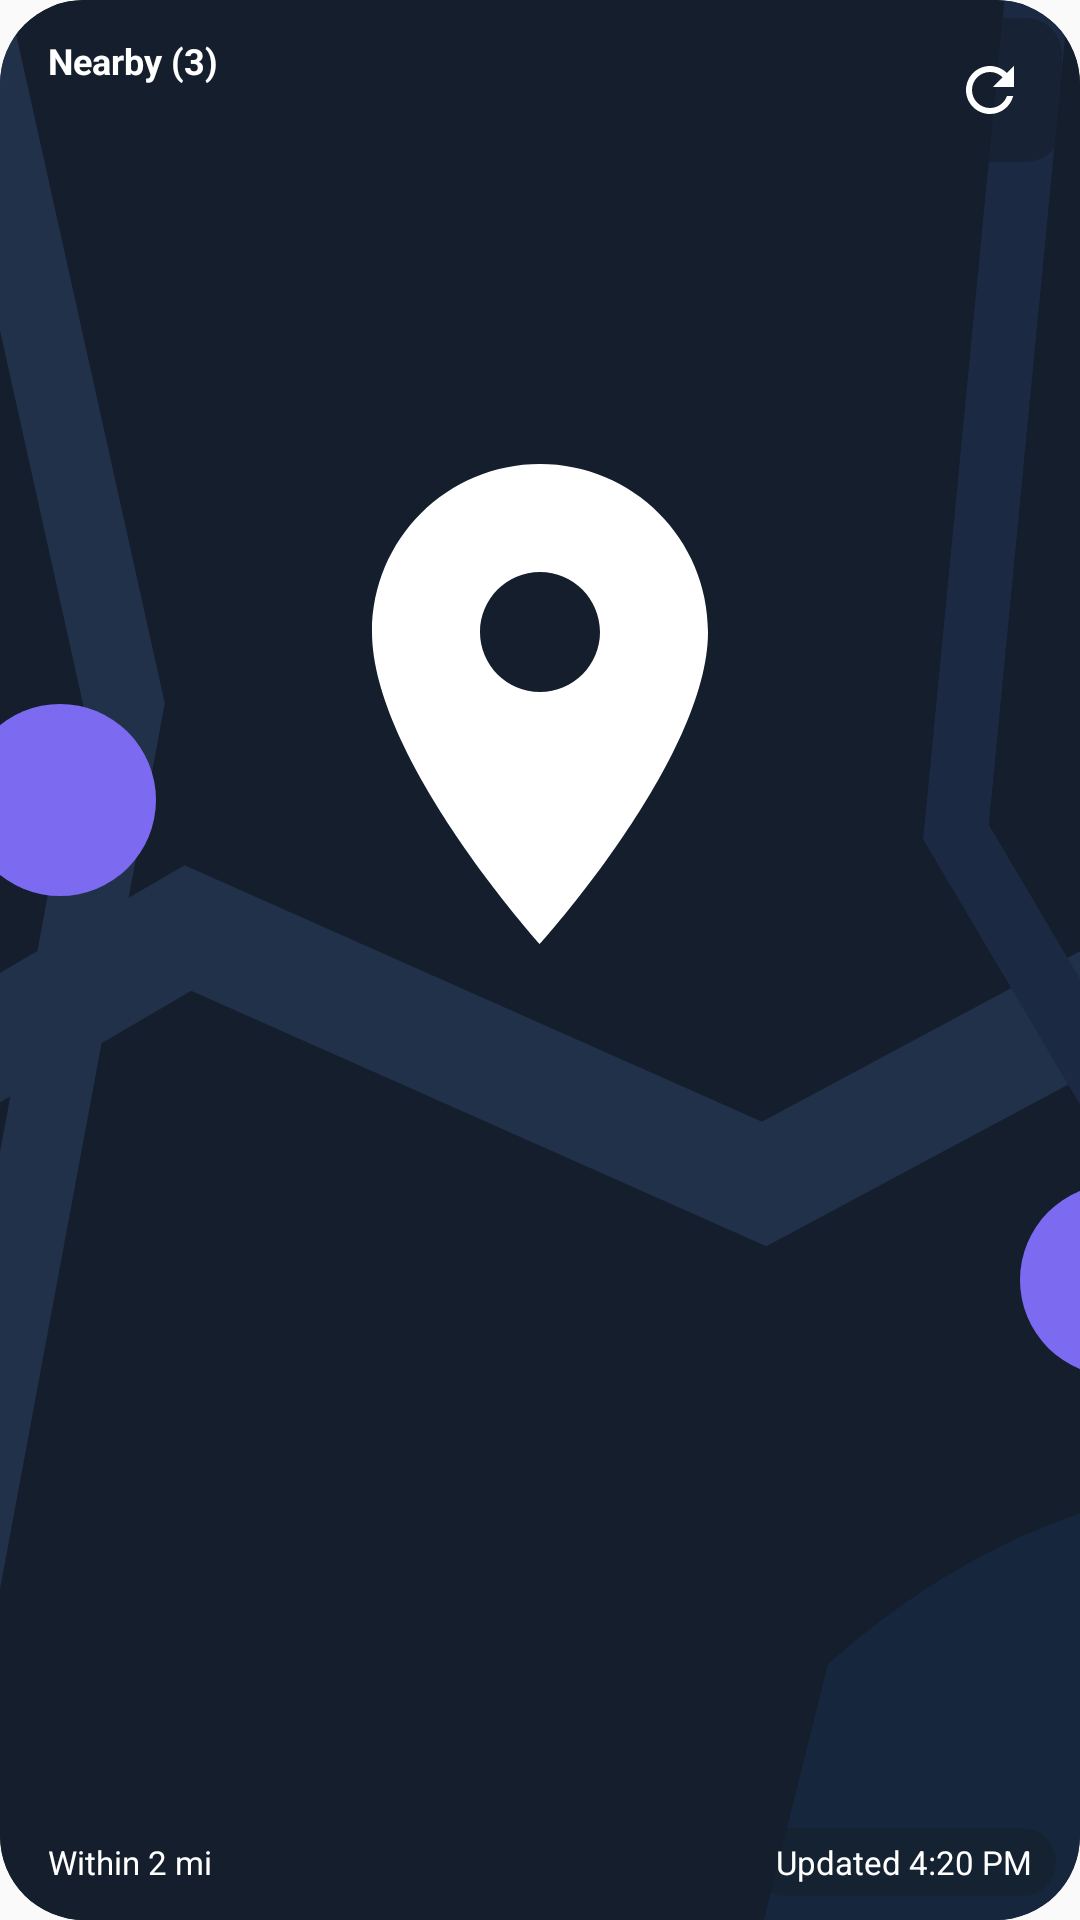

Icon bounding boxes for this 1080w x 1920h phone screenshot, format detection(x1, y1, x2, y2):
Refresh: detection(966, 66, 1014, 114)
